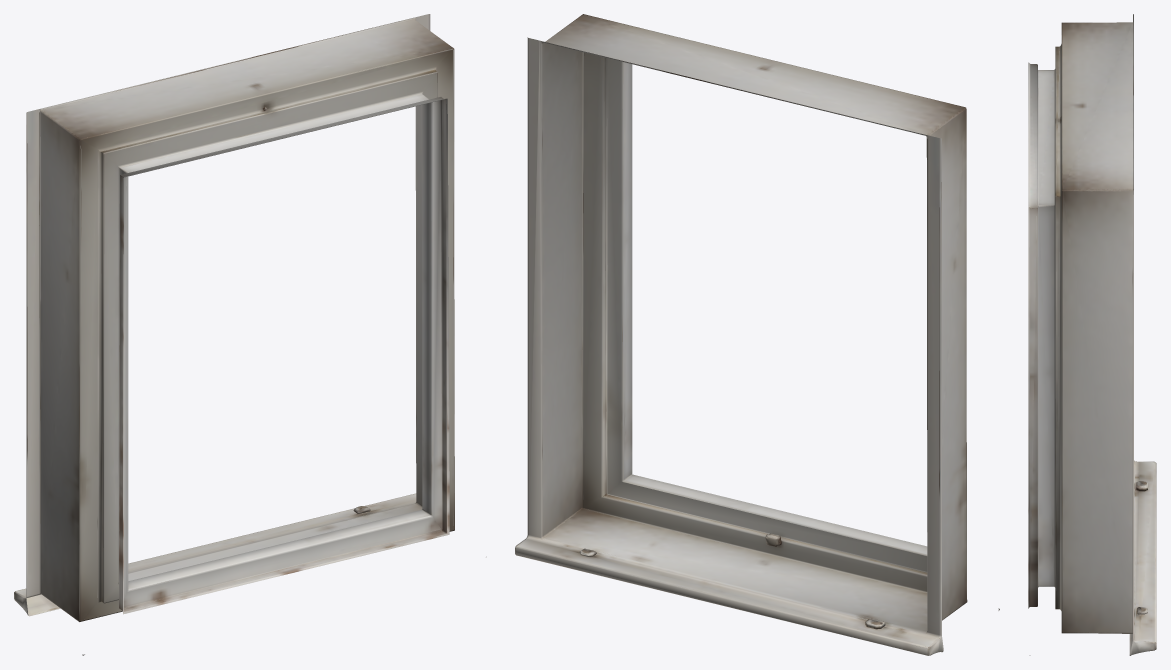
Rendered from window_export.fbx.
The picture shows the model from 3 angles, left to right: view 1: azimuth 30°, elevation 25°; view 2: azimuth 150°, elevation 25°; view 3: azimuth 270°, elevation 25°; orthographic projection. The views are drawn at different scales.
Parts seen in each view (by area): view 1: window; view 2: window; view 3: window.
Part boxes in pixels (box(x1,y1,x2,y2)): window: box(14, 14, 486, 655); window: box(515, 14, 999, 655); window: box(1028, 14, 1156, 655).
Size of the model in its own units: 1.83 by 2.18 by 0.5498.
1 material, 1 textured.
